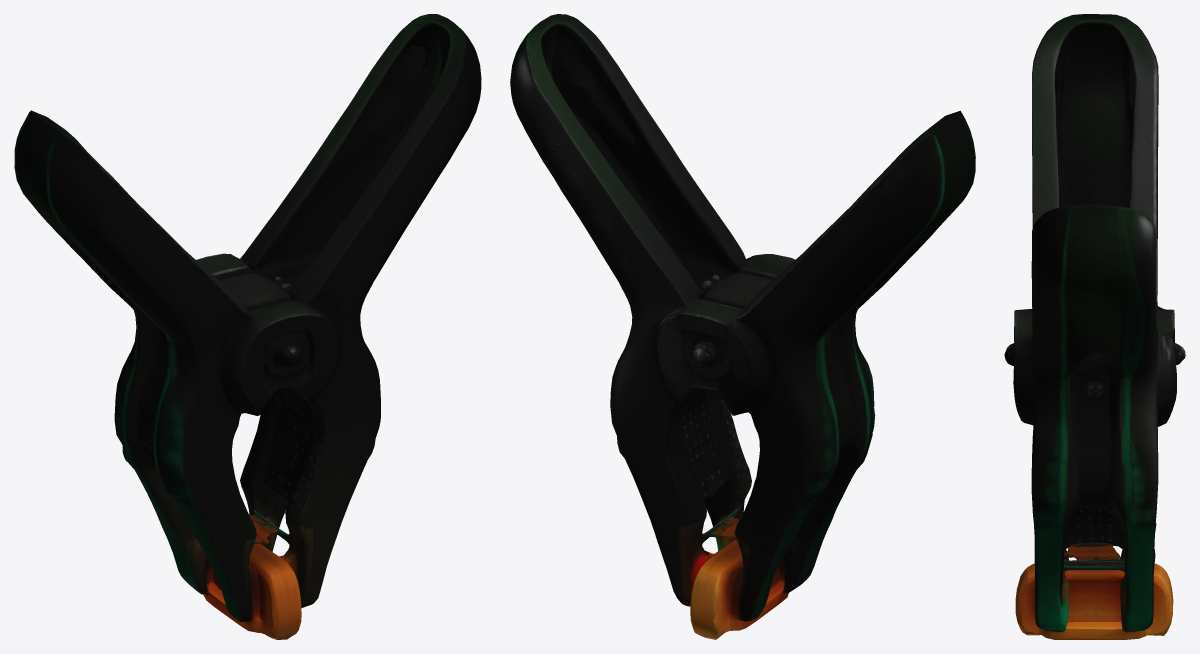
3 views of the same model, side by side, from view 1: azimuth 30°, elevation 25°; view 2: azimuth 150°, elevation 25°; view 3: azimuth 270°, elevation 25° (orthographic). The views are drawn at different scales.
Parts seen in each view (by area): view 1: geometry_0; view 2: geometry_0; view 3: geometry_0.
Part boxes in pixels (<box>): geometry_0: <box>14,14,481,639</box>; geometry_0: <box>510,14,975,639</box>; geometry_0: <box>1004,14,1185,639</box>.
Size of the model in its own units: 0.0888 by 0.1048 by 0.0329.
